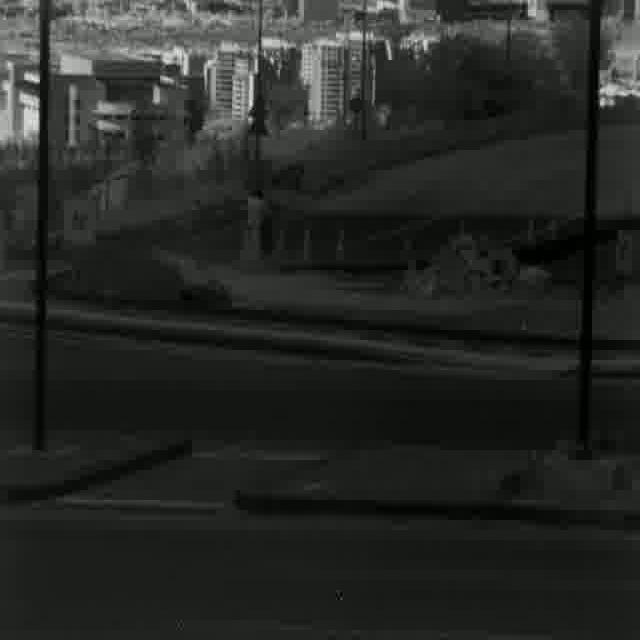Motorcycle: (243, 189, 274, 256)
